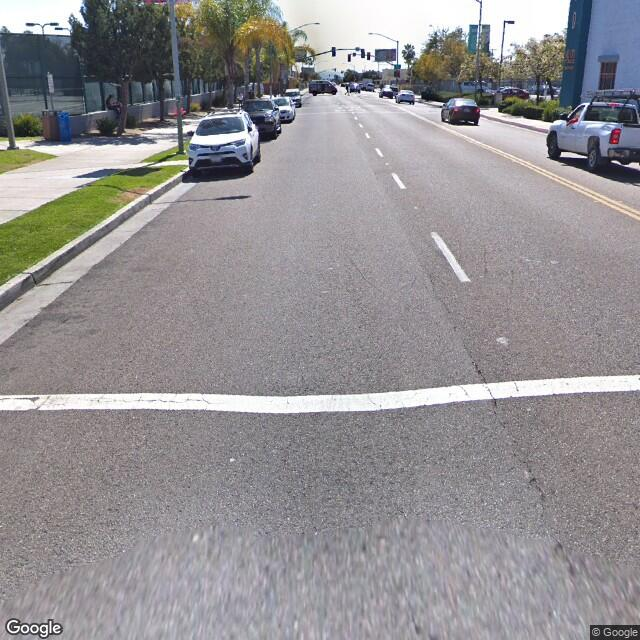road line: (388, 161, 478, 289), (490, 145, 532, 169)
